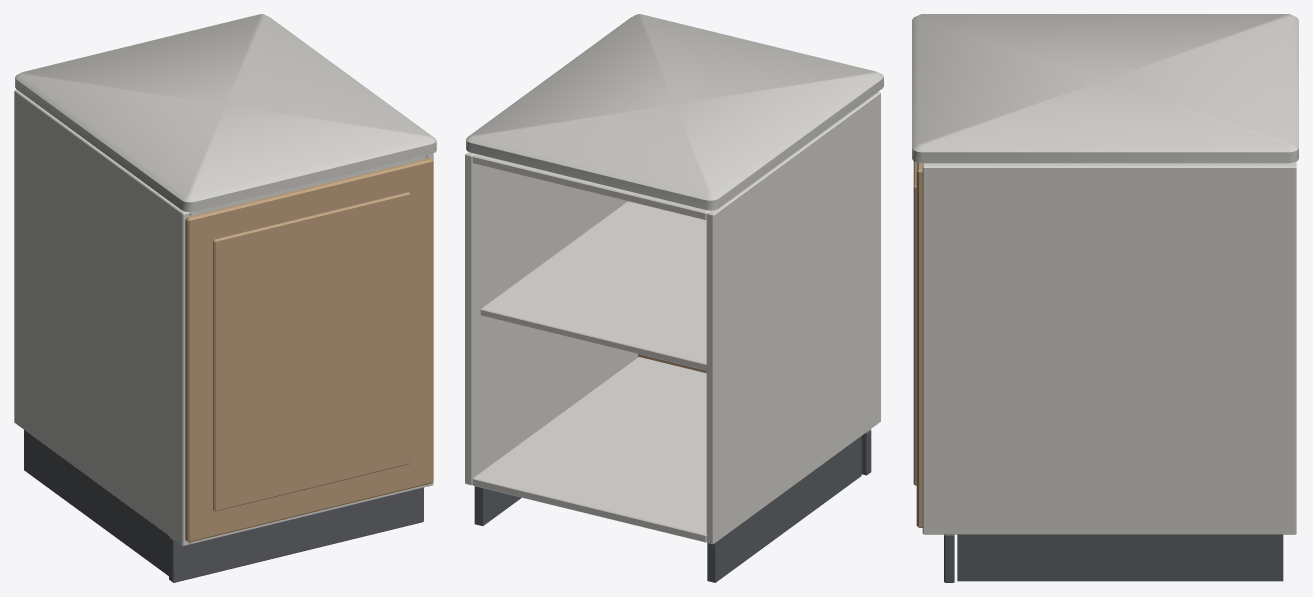
The model's file is bakery-and-cafe-counter-module-600-861cd165__22124.glb.
3 renders of one model, left to right at view 1: azimuth 30°, elevation 25°; view 2: azimuth 150°, elevation 25°; view 3: azimuth 270°, elevation 25°, orthographic. The views are drawn at different scales.
Parts seen in each view (by area): view 1: counter-module-600; view 2: counter-module-600; view 3: counter-module-600.
Boxes of the visible parts, <box> form: counter-module-600: <box>14,14,436,582</box>; counter-module-600: <box>465,14,883,582</box>; counter-module-600: <box>912,14,1298,582</box>.
Bounding box in the file's own units: 0.606 × 0.9 × 0.724.
